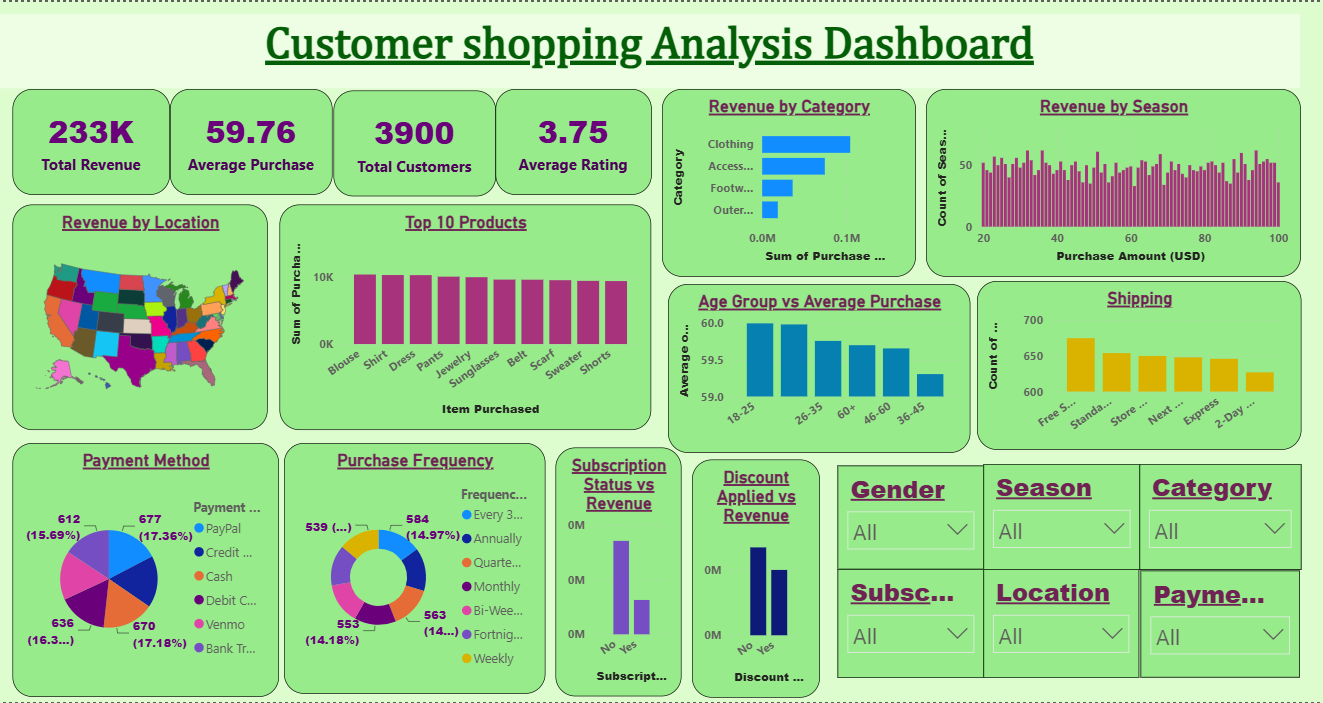

Layout of this report page (visuals, bound fields, positions):
{"tool":"powerbi","page":{"name":"Page 1","canvas":[1403,742],"ordinal":0},"visuals":[{"type":"textbox","box":[0,13.3,1376.7,78.3],"z":0},{"type":"card","fields":{"Values":["Sum(customer_shopping.Purchase Amount (USD))"]},"box":[14.6,92.3,166.8,111.7],"z":1000},{"type":"card","fields":{"Values":["Avg(customer_shopping.Purchase Amount (USD))"]},"box":[181.7,91.7,171.7,111.7],"z":2000},{"type":"card","fields":{"Values":["CountNonNull(customer_shopping.Customer ID)"]},"box":[353.3,93.3,171.7,111.7],"z":3000},{"type":"card","fields":{"Values":["Avg(customer_shopping.Review Rating)"]},"box":[525,91.7,165,111.7],"z":4000},{"type":"slicer","fields":{"Values":["customer_shopping.Gender"]},"box":[886.7,490,155,110],"z":5000},{"type":"slicer","fields":{"Values":["customer_shopping.Season"]},"box":[1041.7,488.3,166.7,111.7],"z":6000},{"type":"slicer","fields":{"Values":["customer_shopping.Category"]},"box":[1206.7,488.3,171.7,111.7],"z":7000},{"type":"slicer","fields":{"Values":["customer_shopping.Subscription Status"]},"box":[886.7,600,155,115],"z":8000},{"type":"slicer","fields":{"Values":["customer_shopping.Payment Method"]},"box":[1208.3,601.7,168.3,113.3],"z":9000},{"type":"clusteredBarChart","title":"Revenue by Category ","fields":{"Y":["Sum(customer_shopping.Purchase Amount (USD))"],"Category":["customer_shopping.Category"]},"box":[701.7,91.7,268.3,198.3],"z":10000},{"type":"shapeMap","title":"Revenue by Location","fields":{"Value":["Sum(customer_shopping.Purchase Amount (USD))"],"Category":["customer_shopping.Location"],"Series":["customer_shopping.Location"]},"box":[15,215,270,238.3],"z":11000},{"type":"columnChart","title":"Revenue by Season ","fields":{"Category":["customer_shopping.Purchase Amount (USD)"],"Y":["CountNonNull(customer_shopping.Season)"]},"box":[981.7,91.7,396.7,198.3],"z":12000},{"type":"slicer","fields":{"Values":["customer_shopping.Location"]},"box":[1041.7,600,165,115],"z":13000},{"type":"pieChart","title":"Payment Method","fields":{"Y":["CountNonNull(customer_shopping.Customer ID)"],"Category":["customer_shopping.Payment Method"]},"box":[15,466.7,281.7,268.3],"z":14000},{"type":"columnChart","title":"Shipping ","fields":{"Category":["customer_shopping.Shipping Type"],"Y":["CountNonNull(customer_shopping.Customer ID)"]},"box":[1035,295,343.3,178.3],"z":15000},{"type":"clusteredColumnChart","title":"Discount Applied vs Revenue","fields":{"Category":["customer_shopping.Discount Applied"],"Y":["Sum(customer_shopping.Purchase Amount (USD))"]},"box":[733.3,483.3,135,251.7],"z":16000},{"type":"clusteredColumnChart","title":"Subscription Status vs Revenue","fields":{"Category":["customer_shopping.Subscription Status"],"Y":["Sum(customer_shopping.Purchase Amount (USD))"]},"box":[588.3,471.7,133.3,263.3],"z":17000},{"type":"columnChart","title":"Age Group vs Average Purchase","fields":{"Category":["customer_shopping.Age Group"],"Y":["Avg(customer_shopping.Purchase Amount (USD))"]},"box":[708.3,298.3,320,178.3],"z":18000},{"type":"columnChart","title":"Top 10 Products","fields":{"Category":["customer_shopping.Item Purchased"],"Y":["Sum(customer_shopping.Purchase Amount (USD))"]},"box":[296.7,215,393.3,238.3],"z":19000},{"type":"donutChart","title":"Purchase Frequency","fields":{"Category":["customer_shopping.Frequency of Purchases"],"Y":["CountNonNull(customer_shopping.Customer ID)"]},"box":[301.7,466.7,276.7,265],"z":20000}]}

Visuals, with their boxes in screenshot pixels (x1, y1, x2, y2), scaled from the page's 1403x742 canvas onto the 1323x703 screenshot:
textbox: select_region(0, 13, 1298, 87)
card - Sum(customer_shopping.Purchase Amount (USD)): select_region(14, 87, 171, 193)
card - Avg(customer_shopping.Purchase Amount (USD)): select_region(171, 87, 333, 193)
card - CountNonNull(customer_shopping.Customer ID): select_region(333, 88, 495, 194)
card - Avg(customer_shopping.Review Rating): select_region(495, 87, 651, 193)
slicer - customer_shopping.Gender: select_region(836, 464, 982, 568)
slicer - customer_shopping.Season: select_region(982, 463, 1139, 568)
slicer - customer_shopping.Category: select_region(1138, 463, 1300, 568)
slicer - customer_shopping.Subscription Status: select_region(836, 568, 982, 677)
slicer - customer_shopping.Payment Method: select_region(1139, 570, 1298, 677)
"Revenue by Category " clusteredBarChart: select_region(662, 87, 915, 275)
"Revenue by Location" shapeMap: select_region(14, 204, 269, 429)
"Revenue by Season " columnChart: select_region(926, 87, 1300, 275)
slicer - customer_shopping.Location: select_region(982, 568, 1138, 677)
"Payment Method" pieChart: select_region(14, 442, 280, 696)
"Shipping " columnChart: select_region(976, 279, 1300, 448)
"Discount Applied vs Revenue" clusteredColumnChart: select_region(691, 458, 819, 696)
"Subscription Status vs Revenue" clusteredColumnChart: select_region(555, 447, 680, 696)
"Age Group vs Average Purchase" columnChart: select_region(668, 283, 970, 452)
"Top 10 Products" columnChart: select_region(280, 204, 651, 429)
"Purchase Frequency" donutChart: select_region(284, 442, 545, 693)
